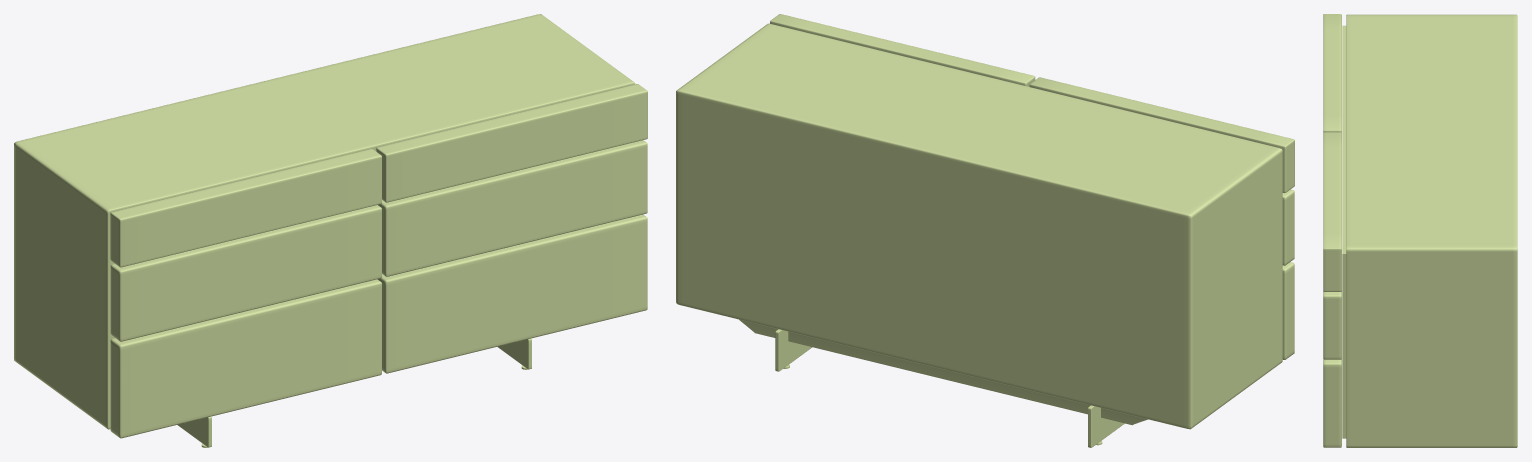
Rendered from pandora-dressoir.obj.
The picture shows the model from 3 angles, left to right: view 1: azimuth 30°, elevation 25°; view 2: azimuth 150°, elevation 25°; view 3: azimuth 270°, elevation 25°; orthographic projection. The views are drawn at different scales.
Parts seen in each view (by area): view 1: main, drawer3, drawer2, drawer1; view 2: main, drawer1, beam1, drawer3, drawer2, beam3, beam2; view 3: main, drawer1, behind_drawer, drawer3, drawer2.
Part boxes in pixels (box(x1,y1,x2,y2)): main: box(14, 14, 635, 429); drawer3: box(110, 214, 647, 438); drawer2: box(110, 140, 647, 341); drawer1: box(110, 84, 647, 267); main: box(676, 23, 1282, 429); drawer1: box(770, 14, 1294, 193); beam1: box(739, 319, 1147, 425); drawer3: box(1282, 262, 1294, 359); drawer2: box(1282, 189, 1294, 265); beam3: box(775, 329, 812, 371); beam2: box(1088, 405, 1124, 447); main: box(1346, 14, 1517, 447); drawer1: box(1323, 14, 1341, 291); behind_drawer: box(1342, 25, 1346, 438); drawer3: box(1323, 358, 1341, 447); drawer2: box(1323, 291, 1341, 359).
Size of the model in its own units: 149 by 71.29 by 52.11.
